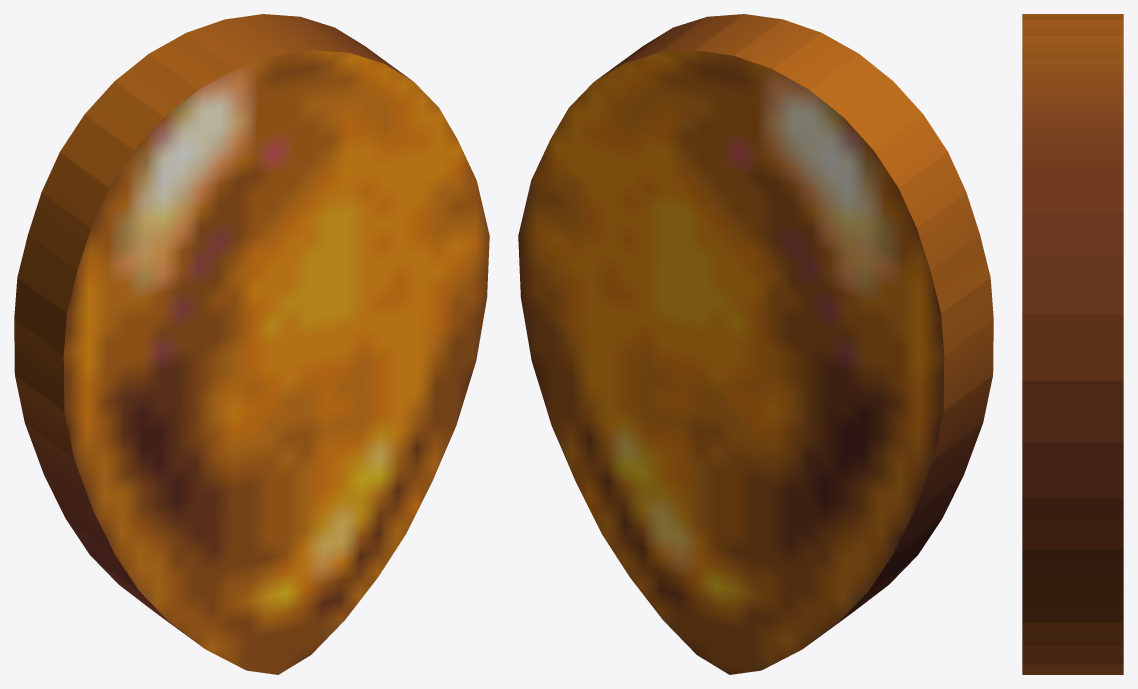
File: Rarity_Legendary.glb
3 renders of one model, left to right at view 1: azimuth 30°, elevation 25°; view 2: azimuth 150°, elevation 25°; view 3: azimuth 270°, elevation 25°, orthographic. The views are drawn at different scales.
Parts seen in each view (by area): view 1: Circle; view 2: Circle; view 3: Circle.
Boxes of the visible parts, <box> form: Circle: <box>14,14,489,674</box>; Circle: <box>518,14,993,674</box>; Circle: <box>1022,14,1123,674</box>.
Bounding box in the file's own units: 0.4969 × 0.6914 × 0.1.
Materials: 1 (1 with a texture image).
